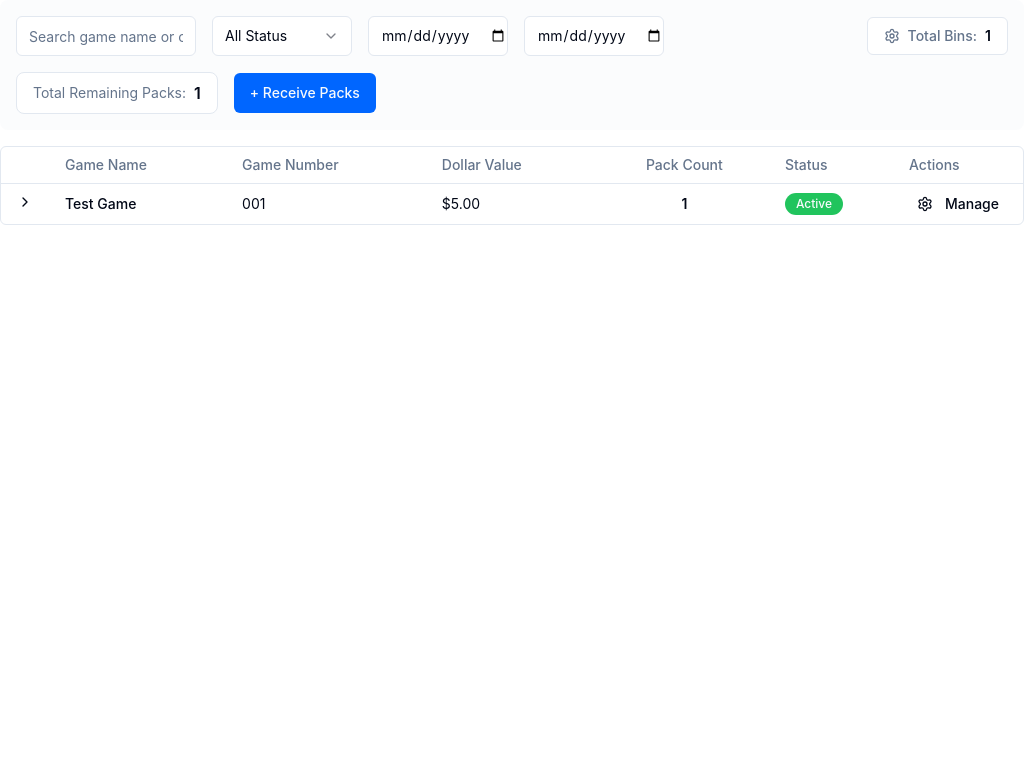
Test case: LotteryTable: Return Button Feature (SEC-010: AUTHZ) › RETURN-BTN-011: [P1] should open return dialog when enabled button is clicked
This screenshot has width=1024, height=768.
Step 1. Click the row with test id "lottery-table-row-game-1" → (101, 203), box left=1, top=183, right=1023, bottom=224
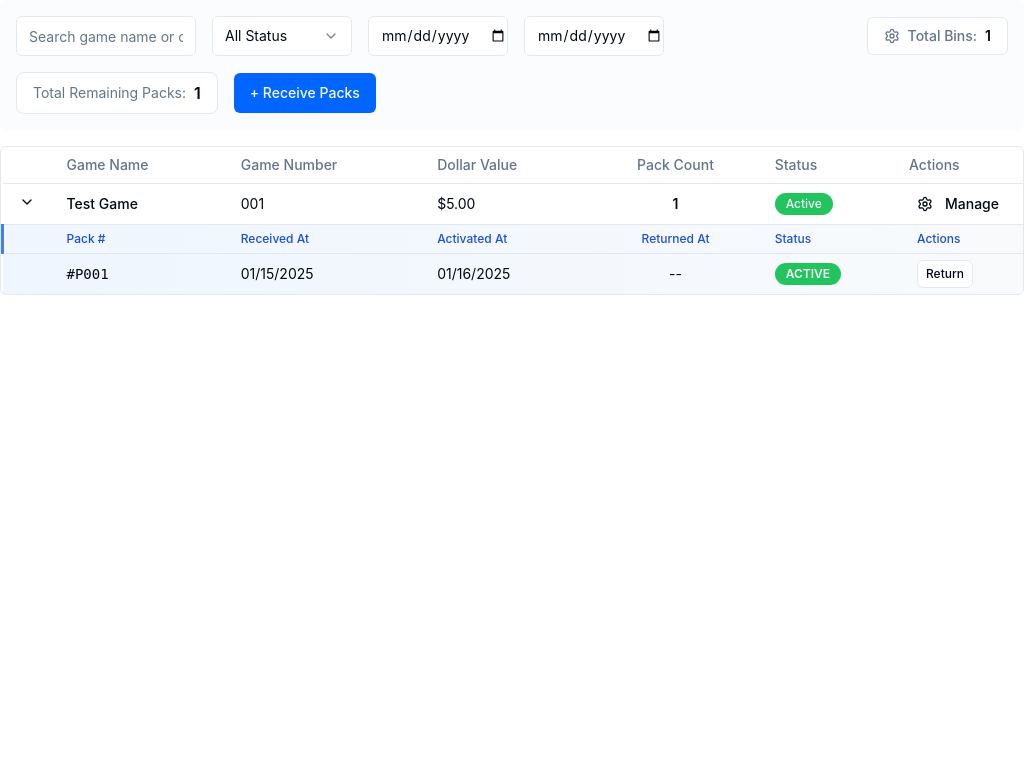
// User clicks Return button
Step 2. Click the button with test id "return-pack-btn-pack-1" → (945, 274), box left=917, top=260, right=973, bottom=288
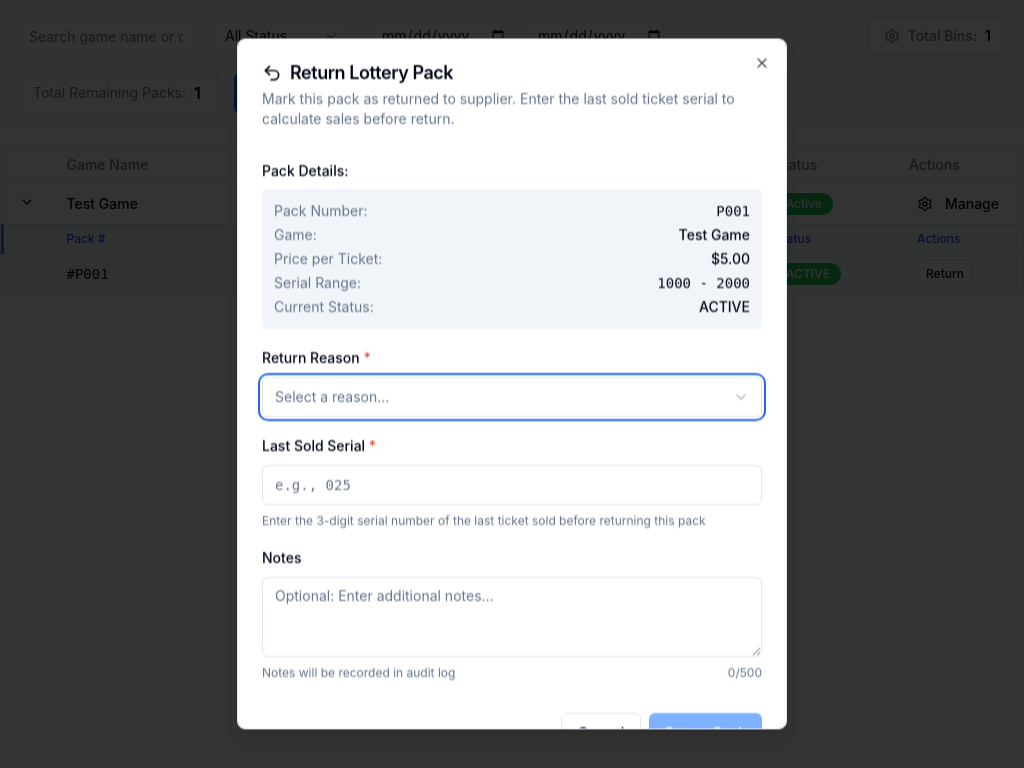
expect the dialog is shown: met, box left=237, top=38, right=787, bottom=730
